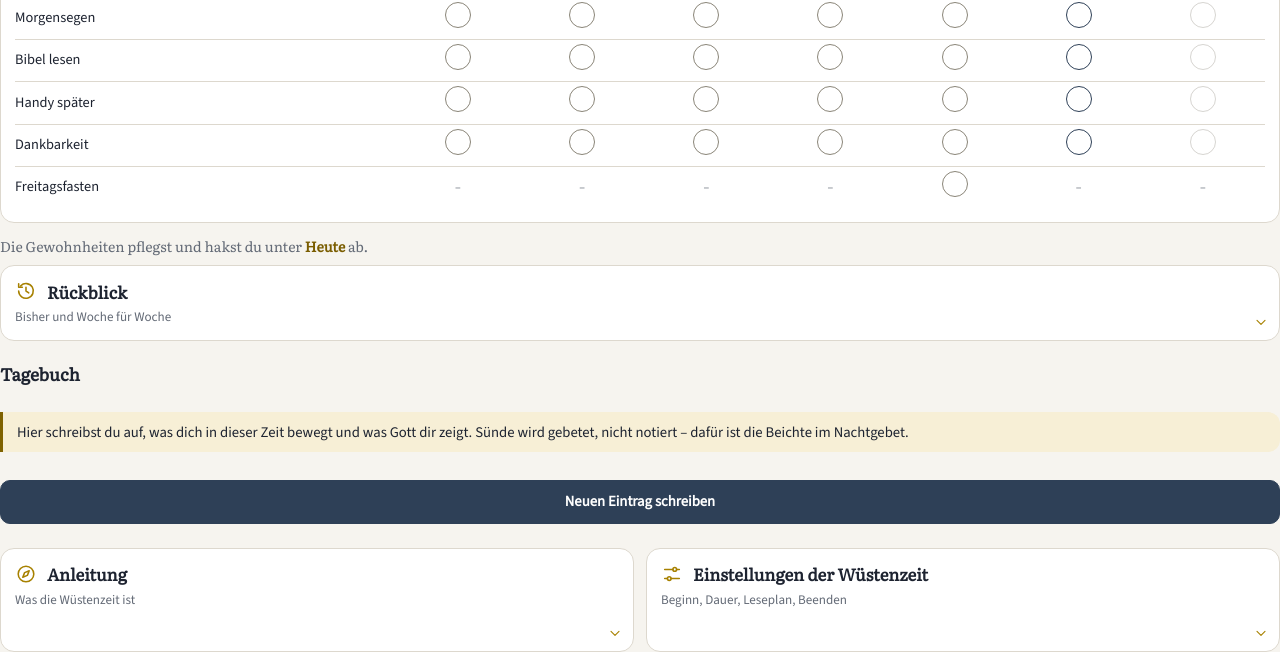
the reading of the Wüstenzeit in the Arena (1.22) › leaves the reading out, or takes the plan of the Bible area, at any time in the settings
(page scrolled)
Click the button "Einstellungen der Wüstenzeit". click: (811, 574)
box: [646,548,1279,651]
(page scrolled)
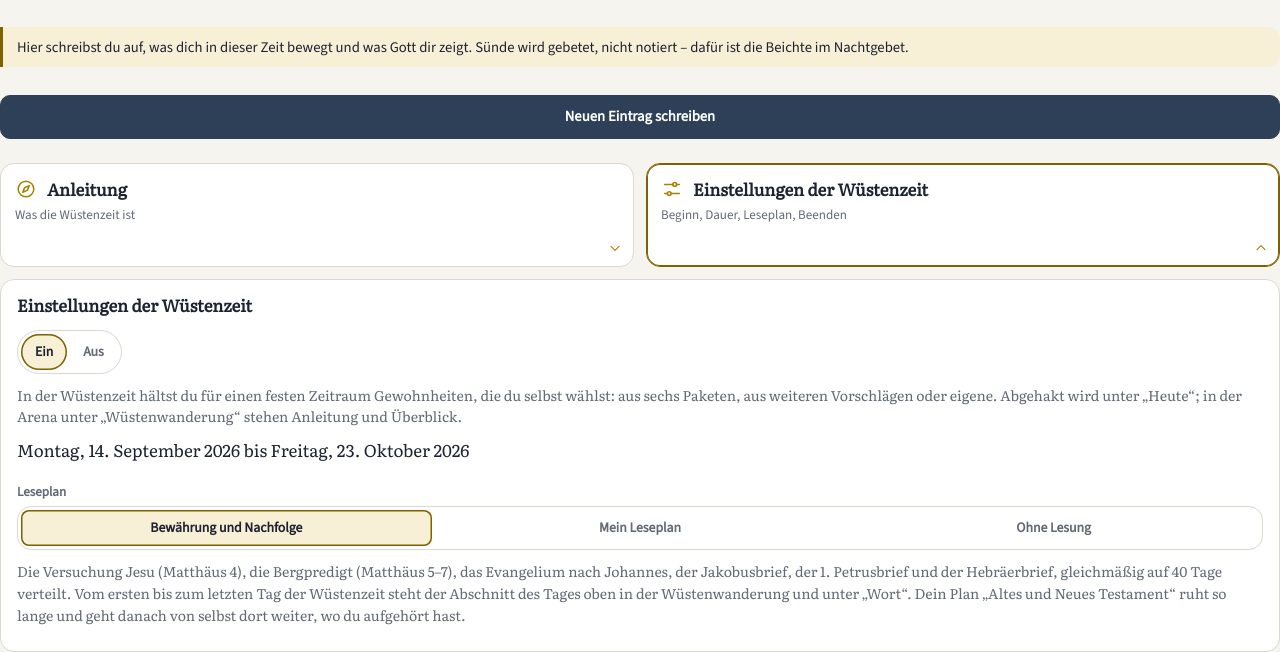
Click the button "Ohne Lesung". click: (1054, 528)
box: [848,510,1259,546]
(page scrolled)
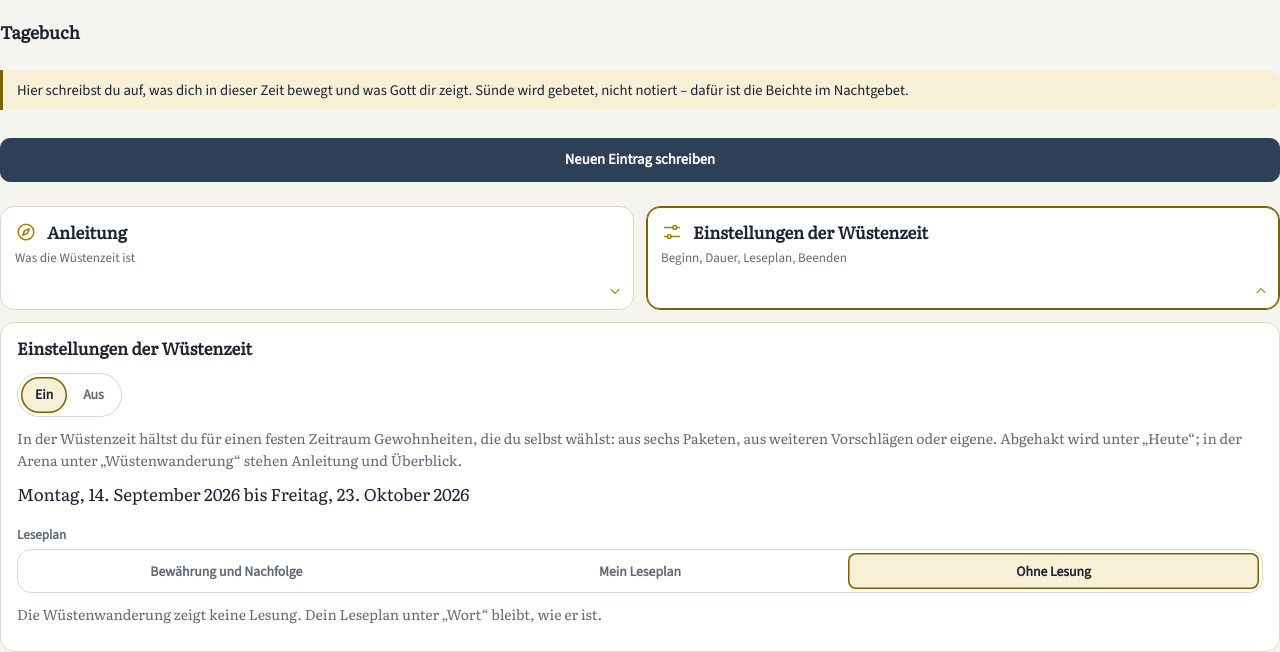
Click the button "Mein Leseplan". click: (640, 571)
box: [435,553,845,589]
(page scrolled)
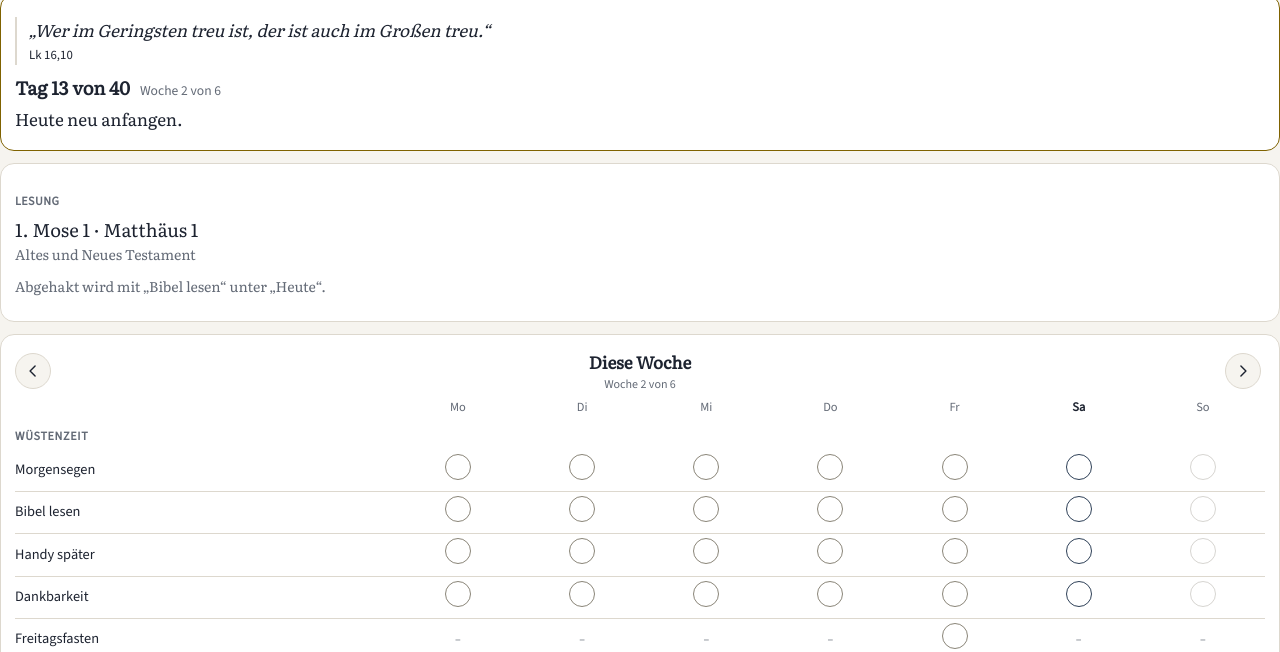
Expected: the element "Lesung" shows "1. Mose 1 · Matthäus 1", [15,215,198,243]
